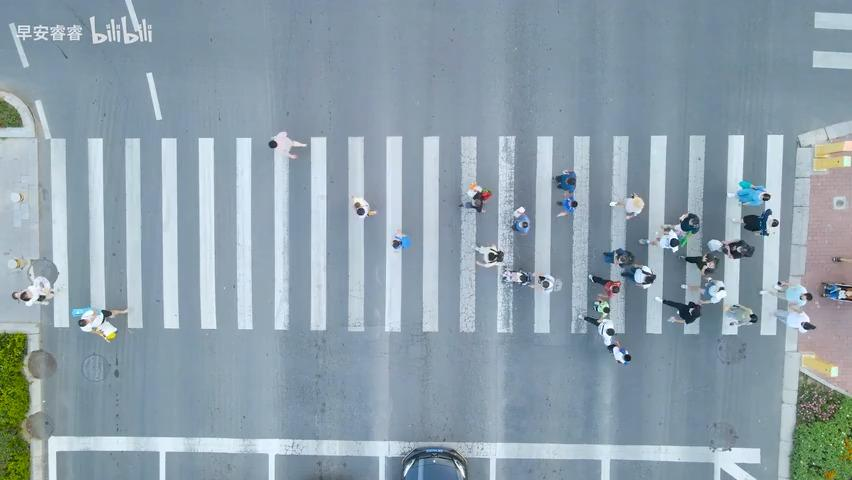Civilian: (71, 306, 128, 342), (17, 270, 59, 306), (653, 295, 702, 324), (769, 303, 816, 333), (729, 208, 778, 236), (638, 225, 686, 253), (662, 212, 699, 248), (585, 316, 624, 349), (501, 267, 554, 291), (680, 277, 726, 304), (727, 179, 771, 206), (267, 130, 307, 159), (457, 181, 492, 213), (577, 293, 610, 326), (774, 280, 812, 307), (608, 192, 644, 220), (706, 238, 754, 259), (676, 252, 719, 275), (619, 263, 656, 286), (587, 273, 621, 297), (724, 303, 758, 326), (474, 243, 504, 267), (605, 340, 632, 366), (602, 247, 634, 267), (554, 168, 576, 197), (351, 194, 377, 218), (501, 268, 534, 286), (820, 281, 851, 300), (511, 206, 530, 233), (556, 193, 577, 217), (391, 229, 410, 250), (831, 255, 851, 263)
